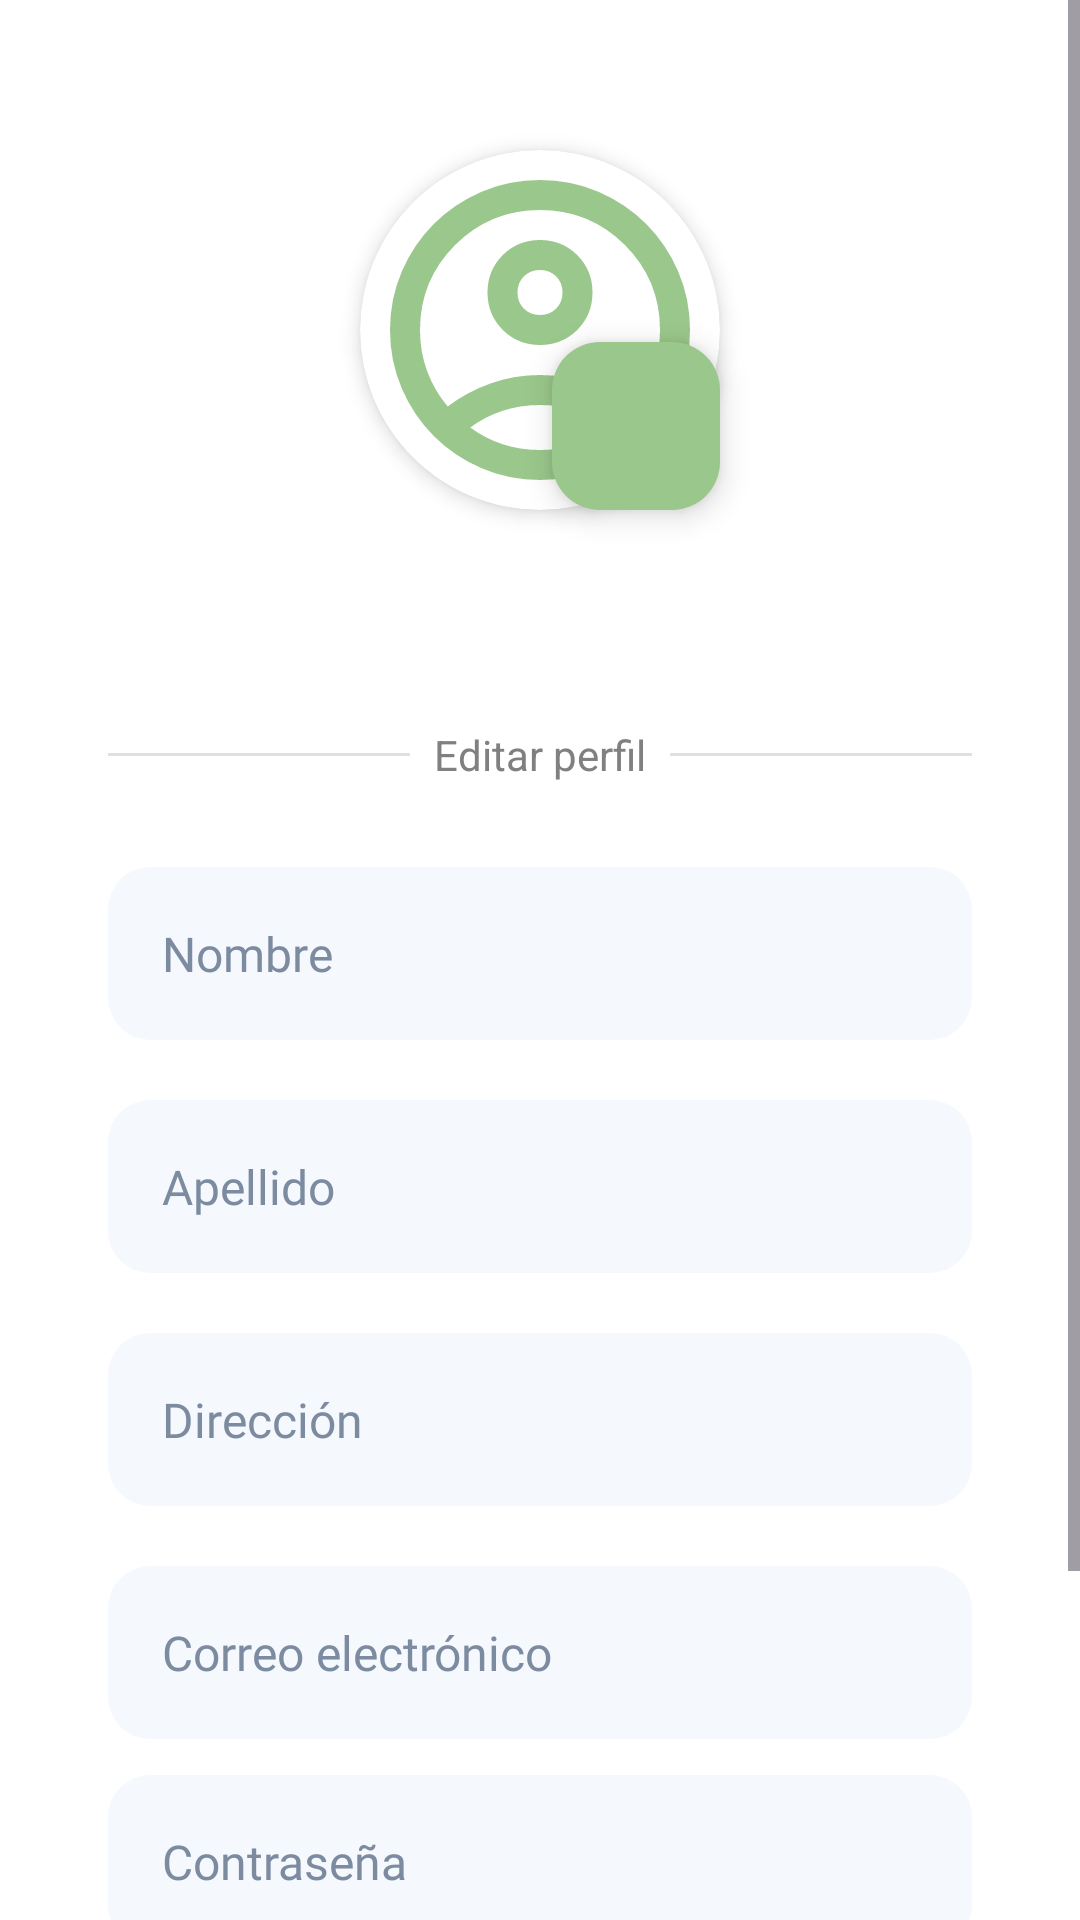

Named icons in this screenshot (1080 x 1920) and their centers, (x=x, y=y):
profile: (x=544, y=345)
